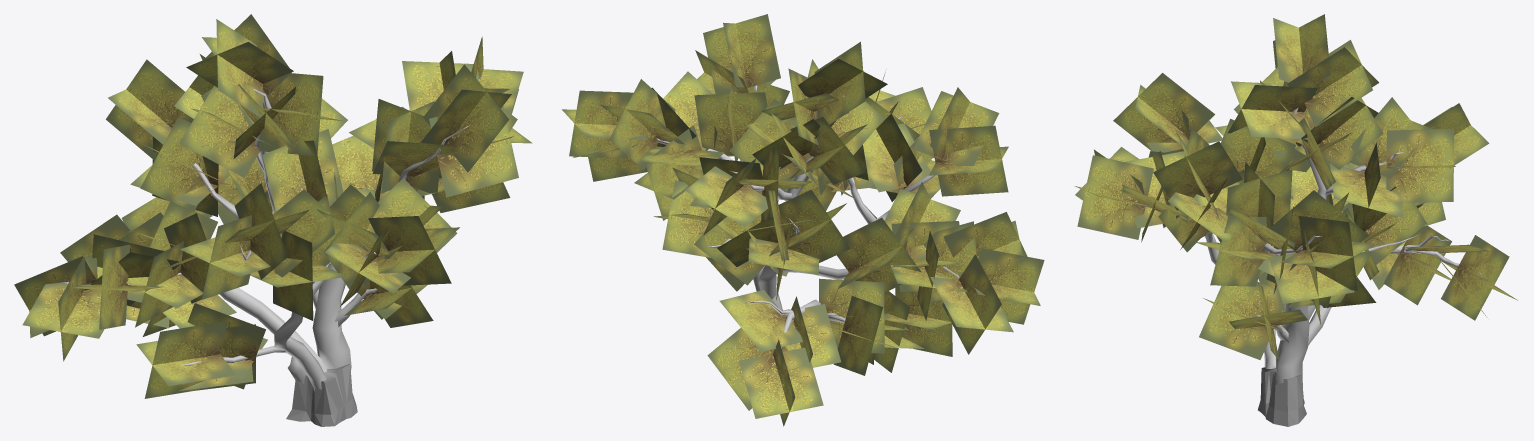
The model's file is JiaYeSiWai1_ShuHuang_1.FBX.
3 renders of one model, left to right at view 1: azimuth 30°, elevation 25°; view 2: azimuth 150°, elevation 25°; view 3: azimuth 270°, elevation 25°, orthographic. The views are drawn at different scales.
Visible parts, largest first — view 1: JiaYeSiWai1_ShuHuang_1a, JiaYeSiWai1_ShuHuang_1b, JiaYeSiWai1_ShuHuang_1_Xzm; view 2: JiaYeSiWai1_ShuHuang_1a, JiaYeSiWai1_ShuHuang_1b; view 3: JiaYeSiWai1_ShuHuang_1a, JiaYeSiWai1_ShuHuang_1b, JiaYeSiWai1_ShuHuang_1_Xzm.
Part boxes in pixels (x1,y1,x2,y2): JiaYeSiWai1_ShuHuang_1a: (14,14,532,398); JiaYeSiWai1_ShuHuang_1b: (56,75,481,422); JiaYeSiWai1_ShuHuang_1_Xzm: (286,364,357,426); JiaYeSiWai1_ShuHuang_1a: (562,14,1044,426); JiaYeSiWai1_ShuHuang_1b: (657,85,959,385); JiaYeSiWai1_ShuHuang_1a: (1074,14,1517,360); JiaYeSiWai1_ShuHuang_1b: (1204,107,1480,406); JiaYeSiWai1_ShuHuang_1_Xzm: (1258,367,1306,426).
Bounding box in the file's own units: 1567 × 1147 × 1286.
